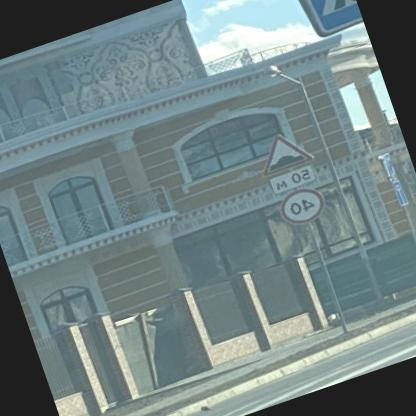speedlimit: (278, 181, 332, 227)
